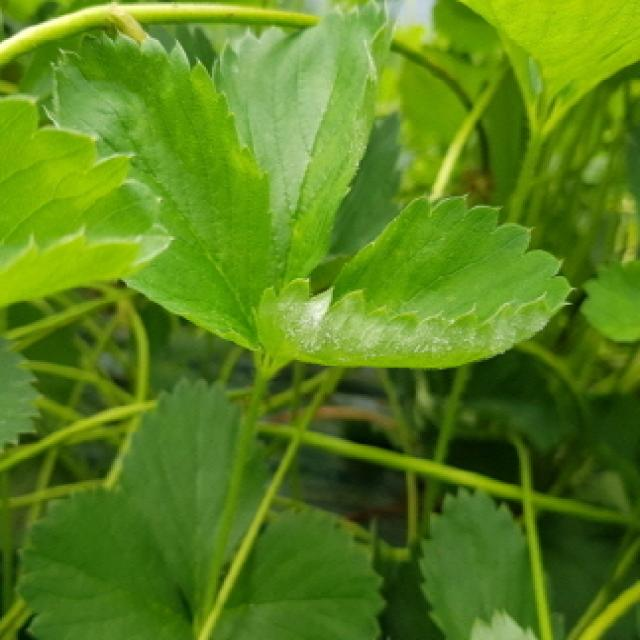Powdery Mildew Leaf: (251, 194, 578, 370), (218, 0, 389, 283)
